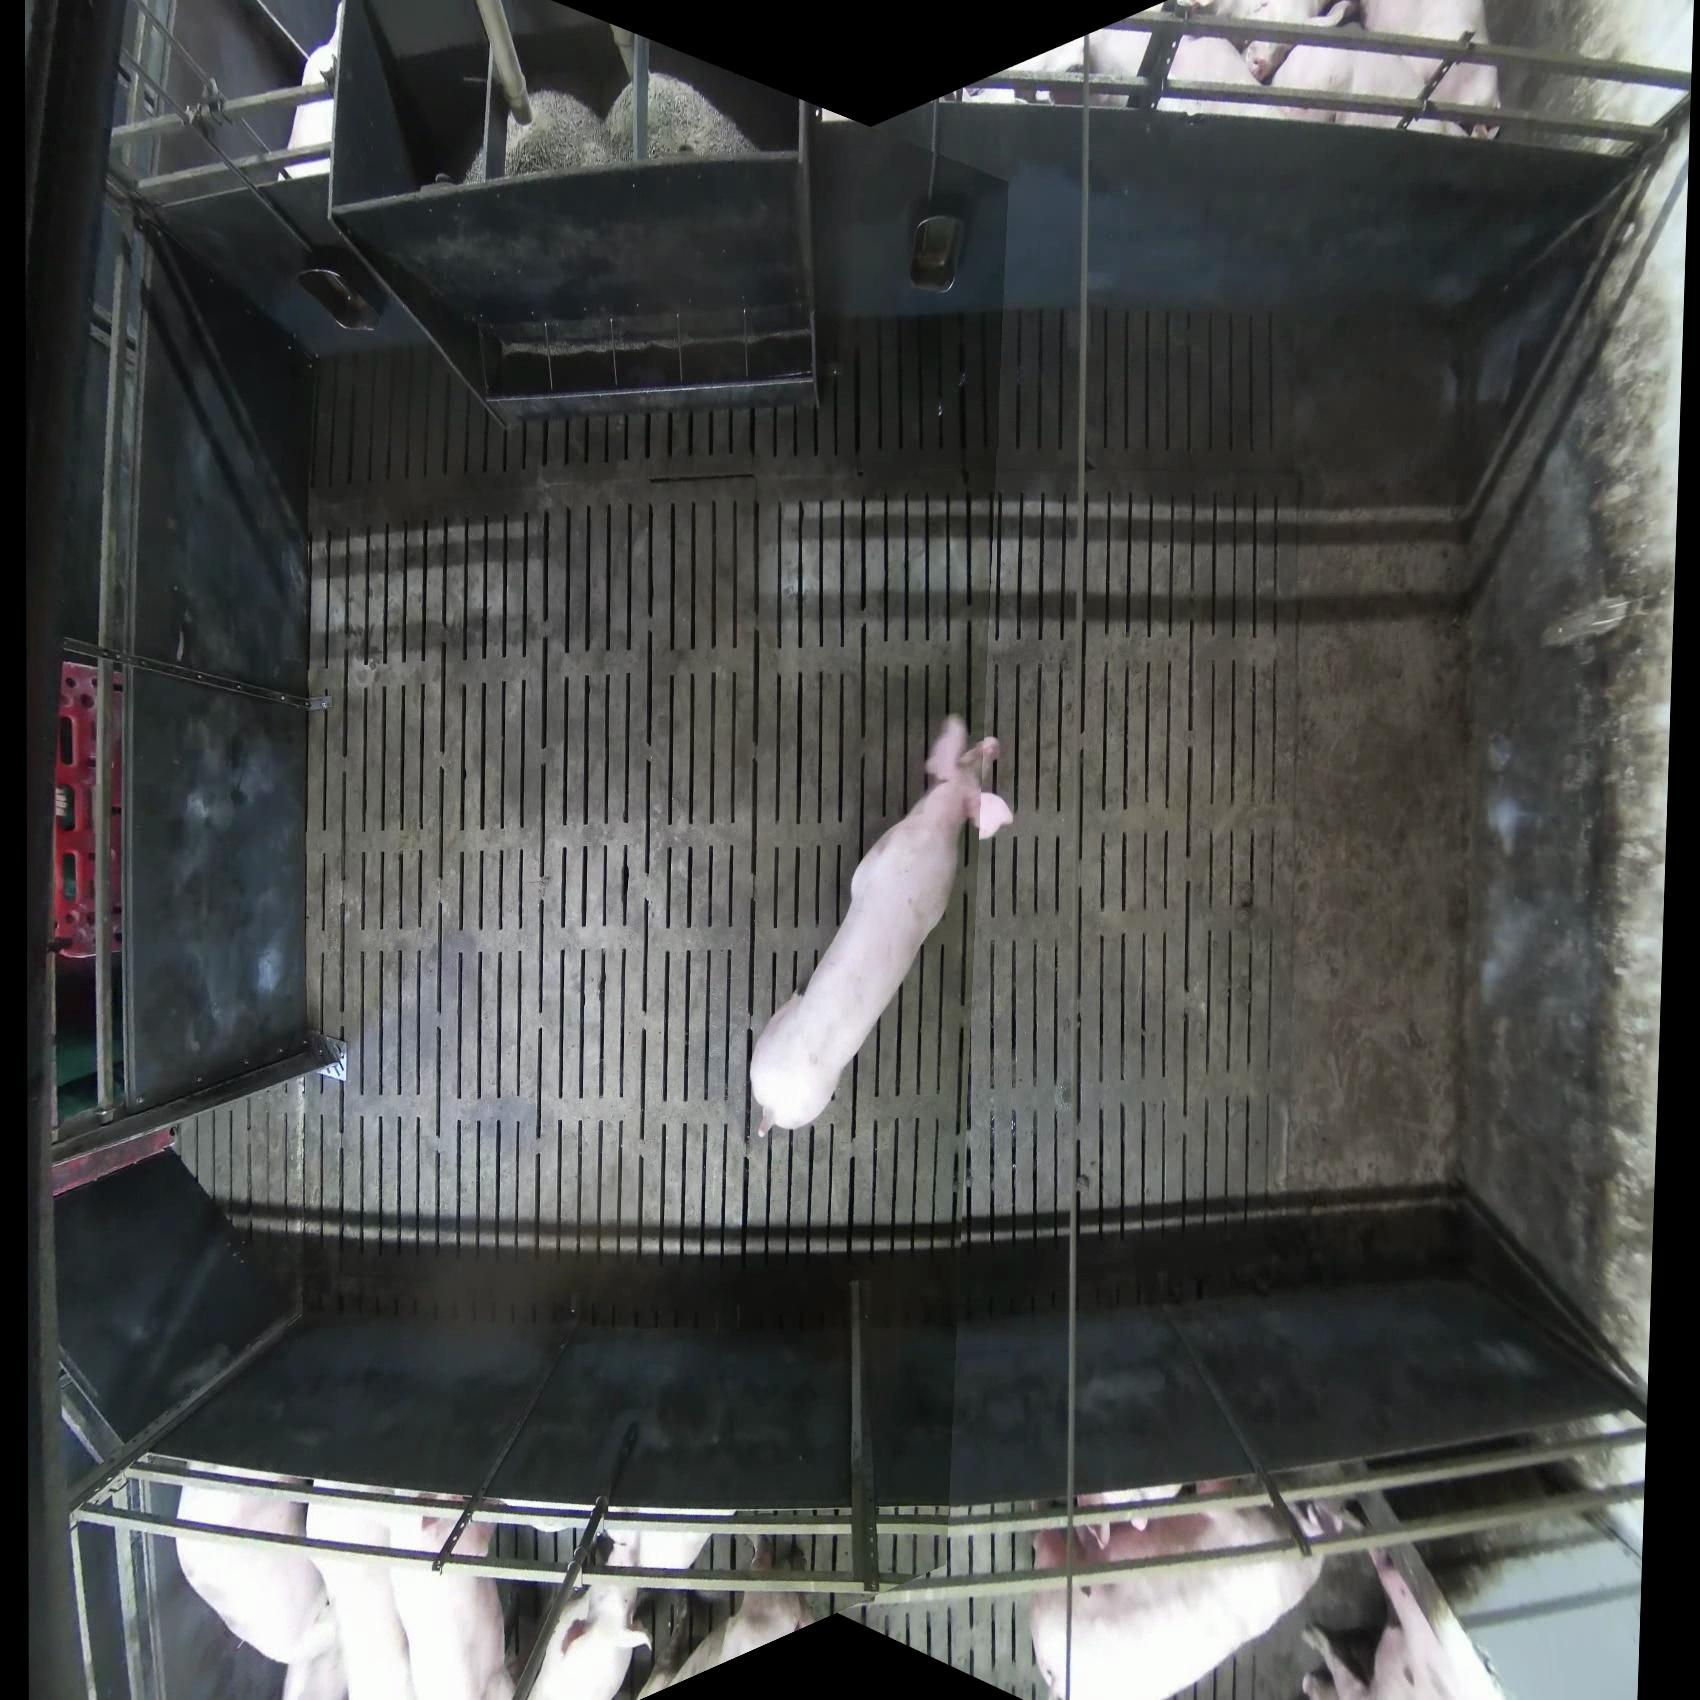pig: (747, 713, 1017, 1140), (1027, 1480, 1378, 1698)
